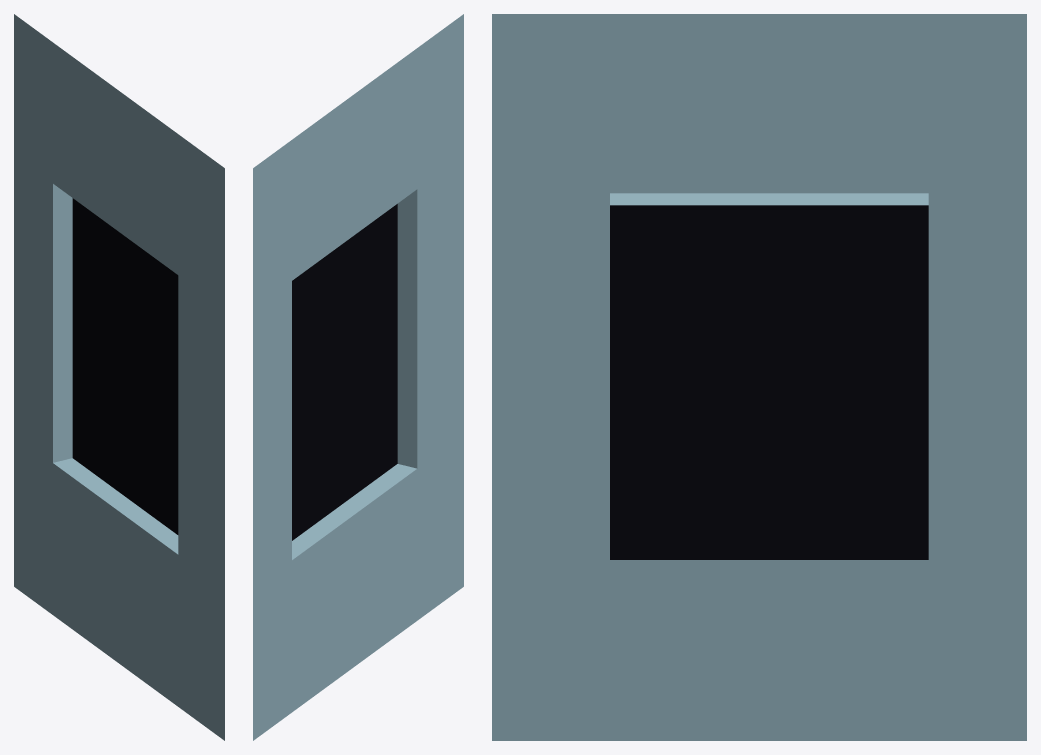
The model's file is B1_wall_window.FBX.
3 views of the same model, side by side, from view 1: azimuth 30°, elevation 25°; view 2: azimuth 150°, elevation 25°; view 3: azimuth 270°, elevation 25° (orthographic). The views are drawn at different scales.
Parts seen in each view (by area): view 1: B1_wall_window; view 2: B1_wall_window; view 3: B1_wall_window.
Part boxes in pixels (bbox=[...]): B1_wall_window: bbox=[14, 14, 224, 740]; B1_wall_window: bbox=[253, 14, 463, 740]; B1_wall_window: bbox=[492, 14, 1026, 740].
Size of the model in its own units: 10.83 by 300 by 200.
